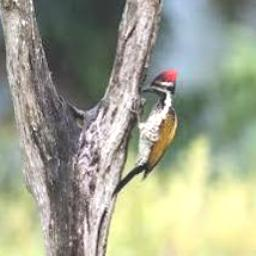Woodpecker: (111, 71, 177, 196)
